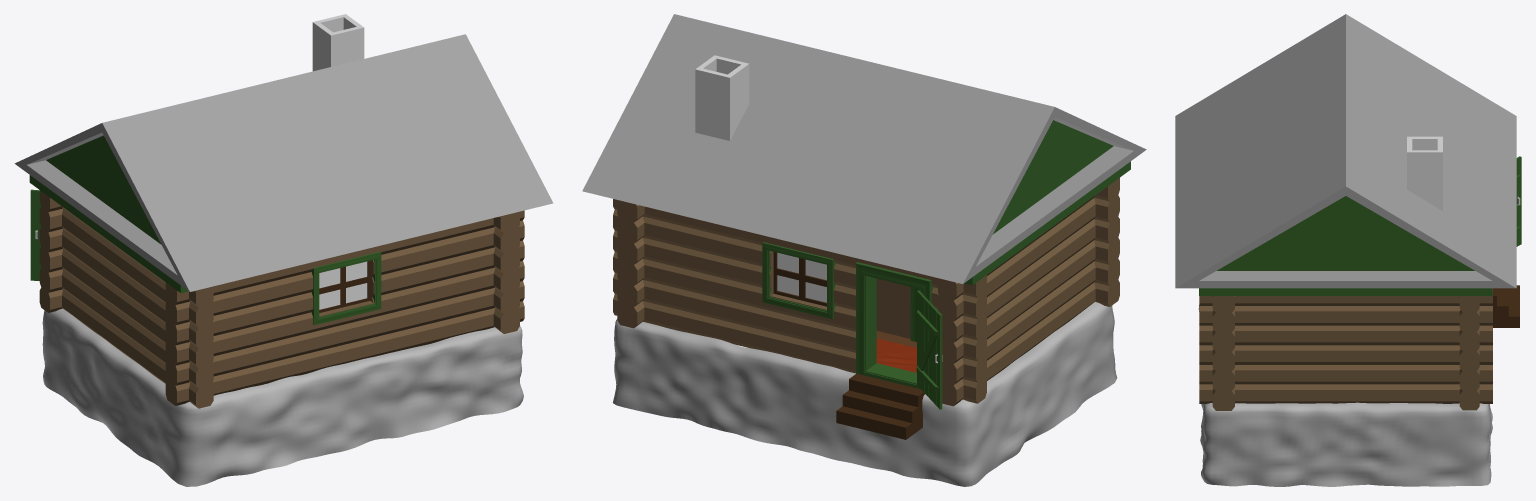
File: Баня.fbx
3 renders of one model, left to right at view 1: azimuth 30°, elevation 25°; view 2: azimuth 150°, elevation 25°; view 3: azimuth 270°, elevation 25°, orthographic. The views are drawn at different scales.
Parts seen in each view (by area): view 1: Куб.119, Куб.156, Куб.134, Куб.121, Куб.158, Плоскость.040, Куб.144, Куб.157; view 2: Куб.119, Куб.156, Куб.134, Куб.188, Куб.121, Куб.145, Куб.144, Куб.155, Плоскость.039, Плоскость.027, Куб.125, Куб.143; view 3: Куб.119, Куб.156, Куб.134, Куб.121, Куб.188, Куб.144.
Part boxes in pixels (box(x1,y1,x2,y2)): Куб.119: box(14, 34, 553, 292); Куб.156: box(39, 190, 524, 408); Куб.134: box(42, 308, 523, 486); Куб.121: box(312, 14, 364, 71); Куб.158: box(311, 251, 381, 325); Плоскость.040: box(319, 261, 367, 309); Куб.144: box(30, 189, 41, 280); Куб.157: box(319, 261, 370, 312); Куб.119: box(582, 14, 1146, 285); Куб.156: box(613, 178, 1119, 406); Куб.134: box(613, 302, 1117, 486); Куб.188: box(836, 373, 924, 439); Куб.121: box(695, 55, 749, 140); Куб.145: box(856, 262, 933, 388); Куб.144: box(917, 290, 942, 409); Куб.155: box(762, 242, 835, 319); Плоскость.039: box(777, 252, 826, 302); Плоскость.027: box(876, 338, 916, 372); Куб.125: box(773, 252, 826, 306); Куб.143: box(916, 310, 938, 392); Куб.119: box(1175, 14, 1516, 295); Куб.156: box(1199, 288, 1492, 410); Куб.134: box(1198, 305, 1492, 486); Куб.121: box(1407, 136, 1442, 210); Куб.188: box(1493, 285, 1519, 327); Куб.144: box(1516, 156, 1521, 246).
Bounding box in the file's own units: 313 × 259 × 266.
